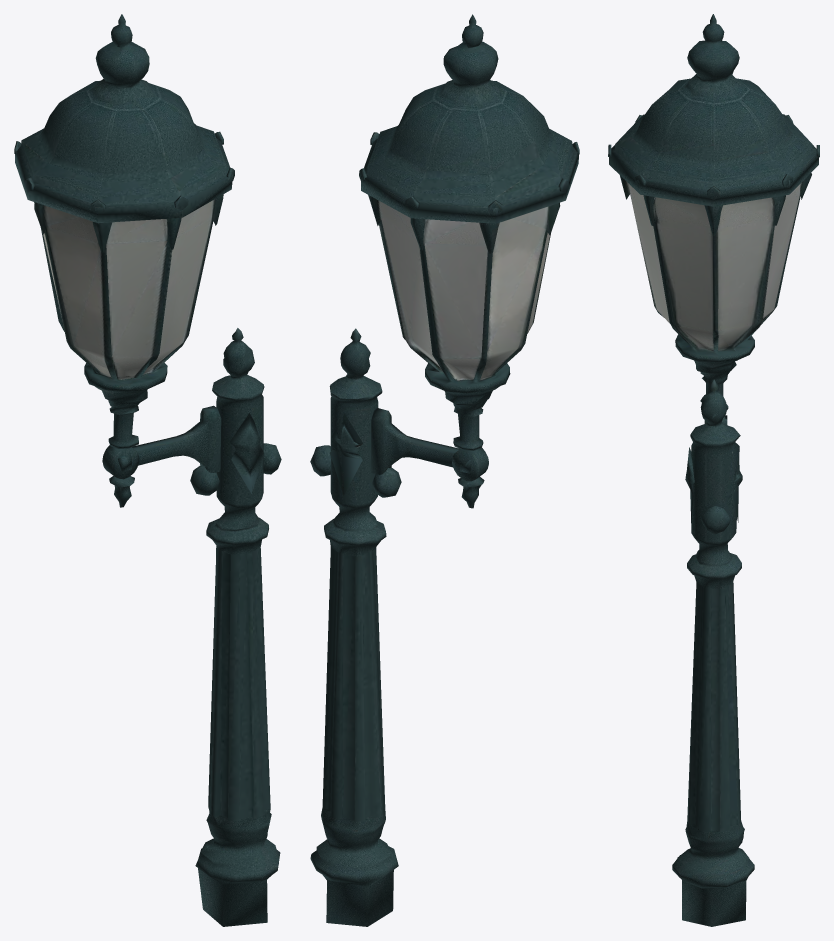
The model's file is street_lamp.glb.
3 views of the same model, side by side, from view 1: azimuth 30°, elevation 25°; view 2: azimuth 150°, elevation 25°; view 3: azimuth 270°, elevation 25° (orthographic). The views are drawn at different scales.
Bounding box in the file's own units: 1.2 × 4.2 × 0.9501.
Materials: 1 (1 with a texture image).
